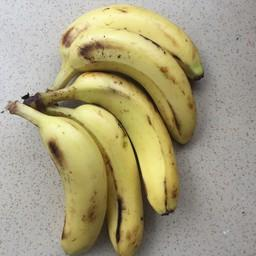Banana Ripe: (52, 38, 184, 229), (40, 64, 149, 256), (47, 27, 204, 150), (7, 97, 112, 256), (58, 0, 216, 83)
